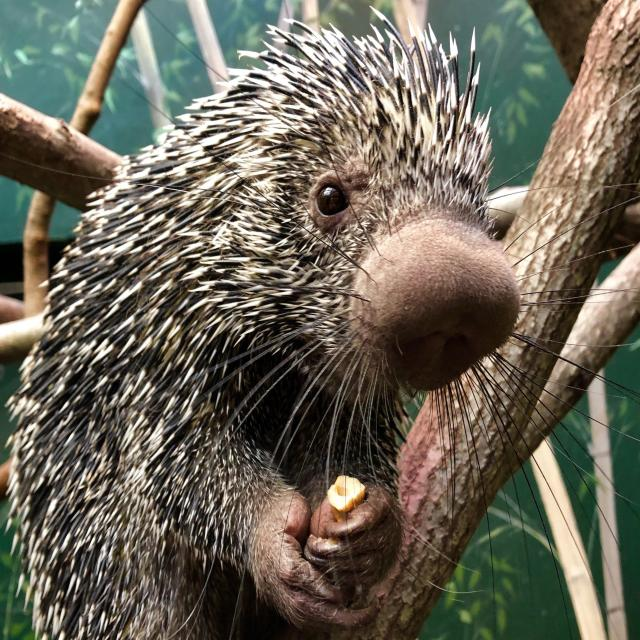porcupine: (9, 11, 520, 640)
